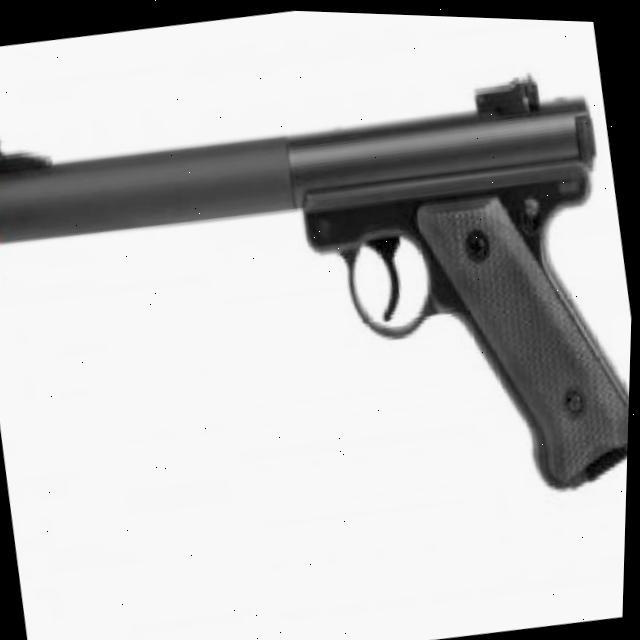gun: (0, 40, 639, 575)
